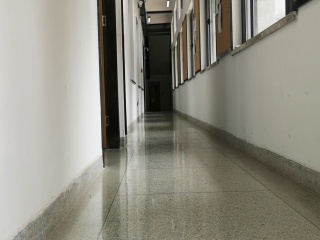room: (93, 2, 122, 154)
